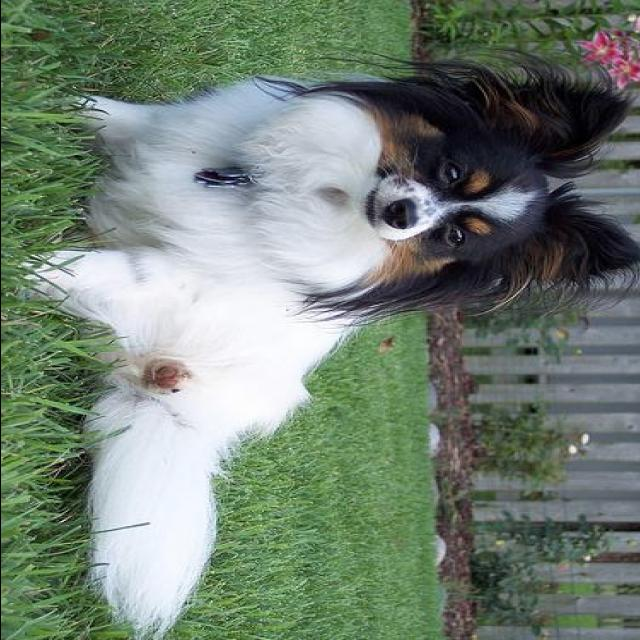papillon: (17, 43, 640, 632)
